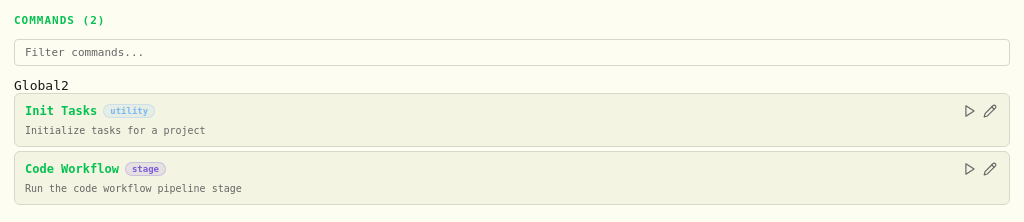
CommandsPanel › filters commands by name
The width and height of the screenshot is (1024, 222).
Expected: the text "Init Tasks" is shown, left=25, top=104, right=97, bottom=118
In the field with placeholder "Filter commands...": (512, 52) left=14, top=39, right=1010, bottom=66, type "init"
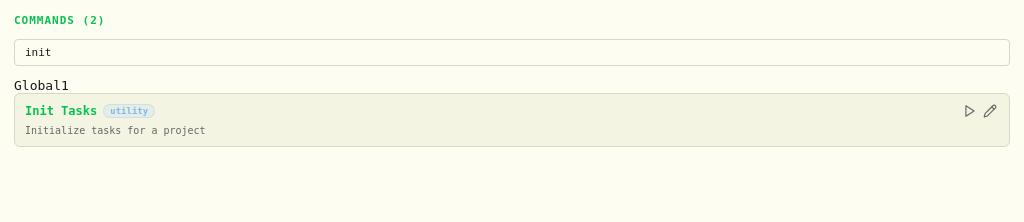
Expected: the text "Init Tasks" is shown, left=25, top=104, right=97, bottom=118
Expected: the text "Code Workflow" is gone
